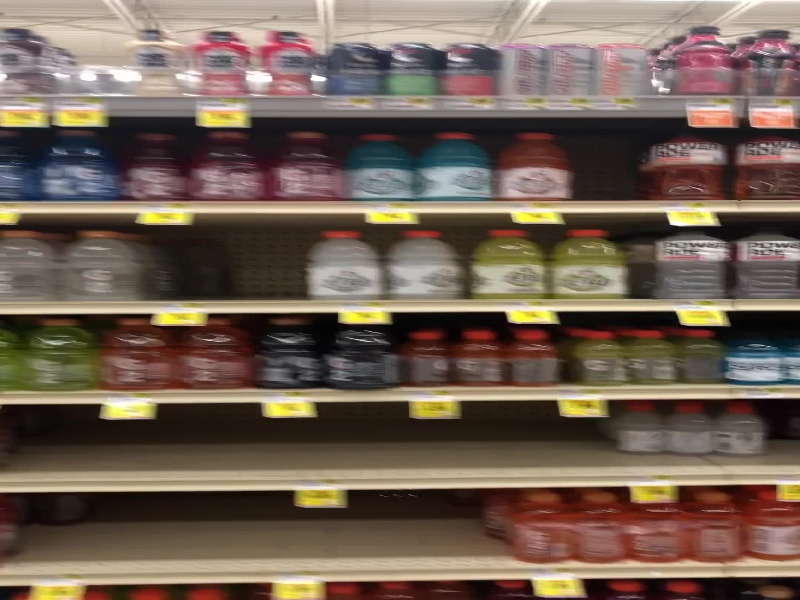empty_shelf_space: (1, 400, 612, 475), (18, 492, 494, 564), (164, 213, 309, 300), (573, 111, 653, 200)
